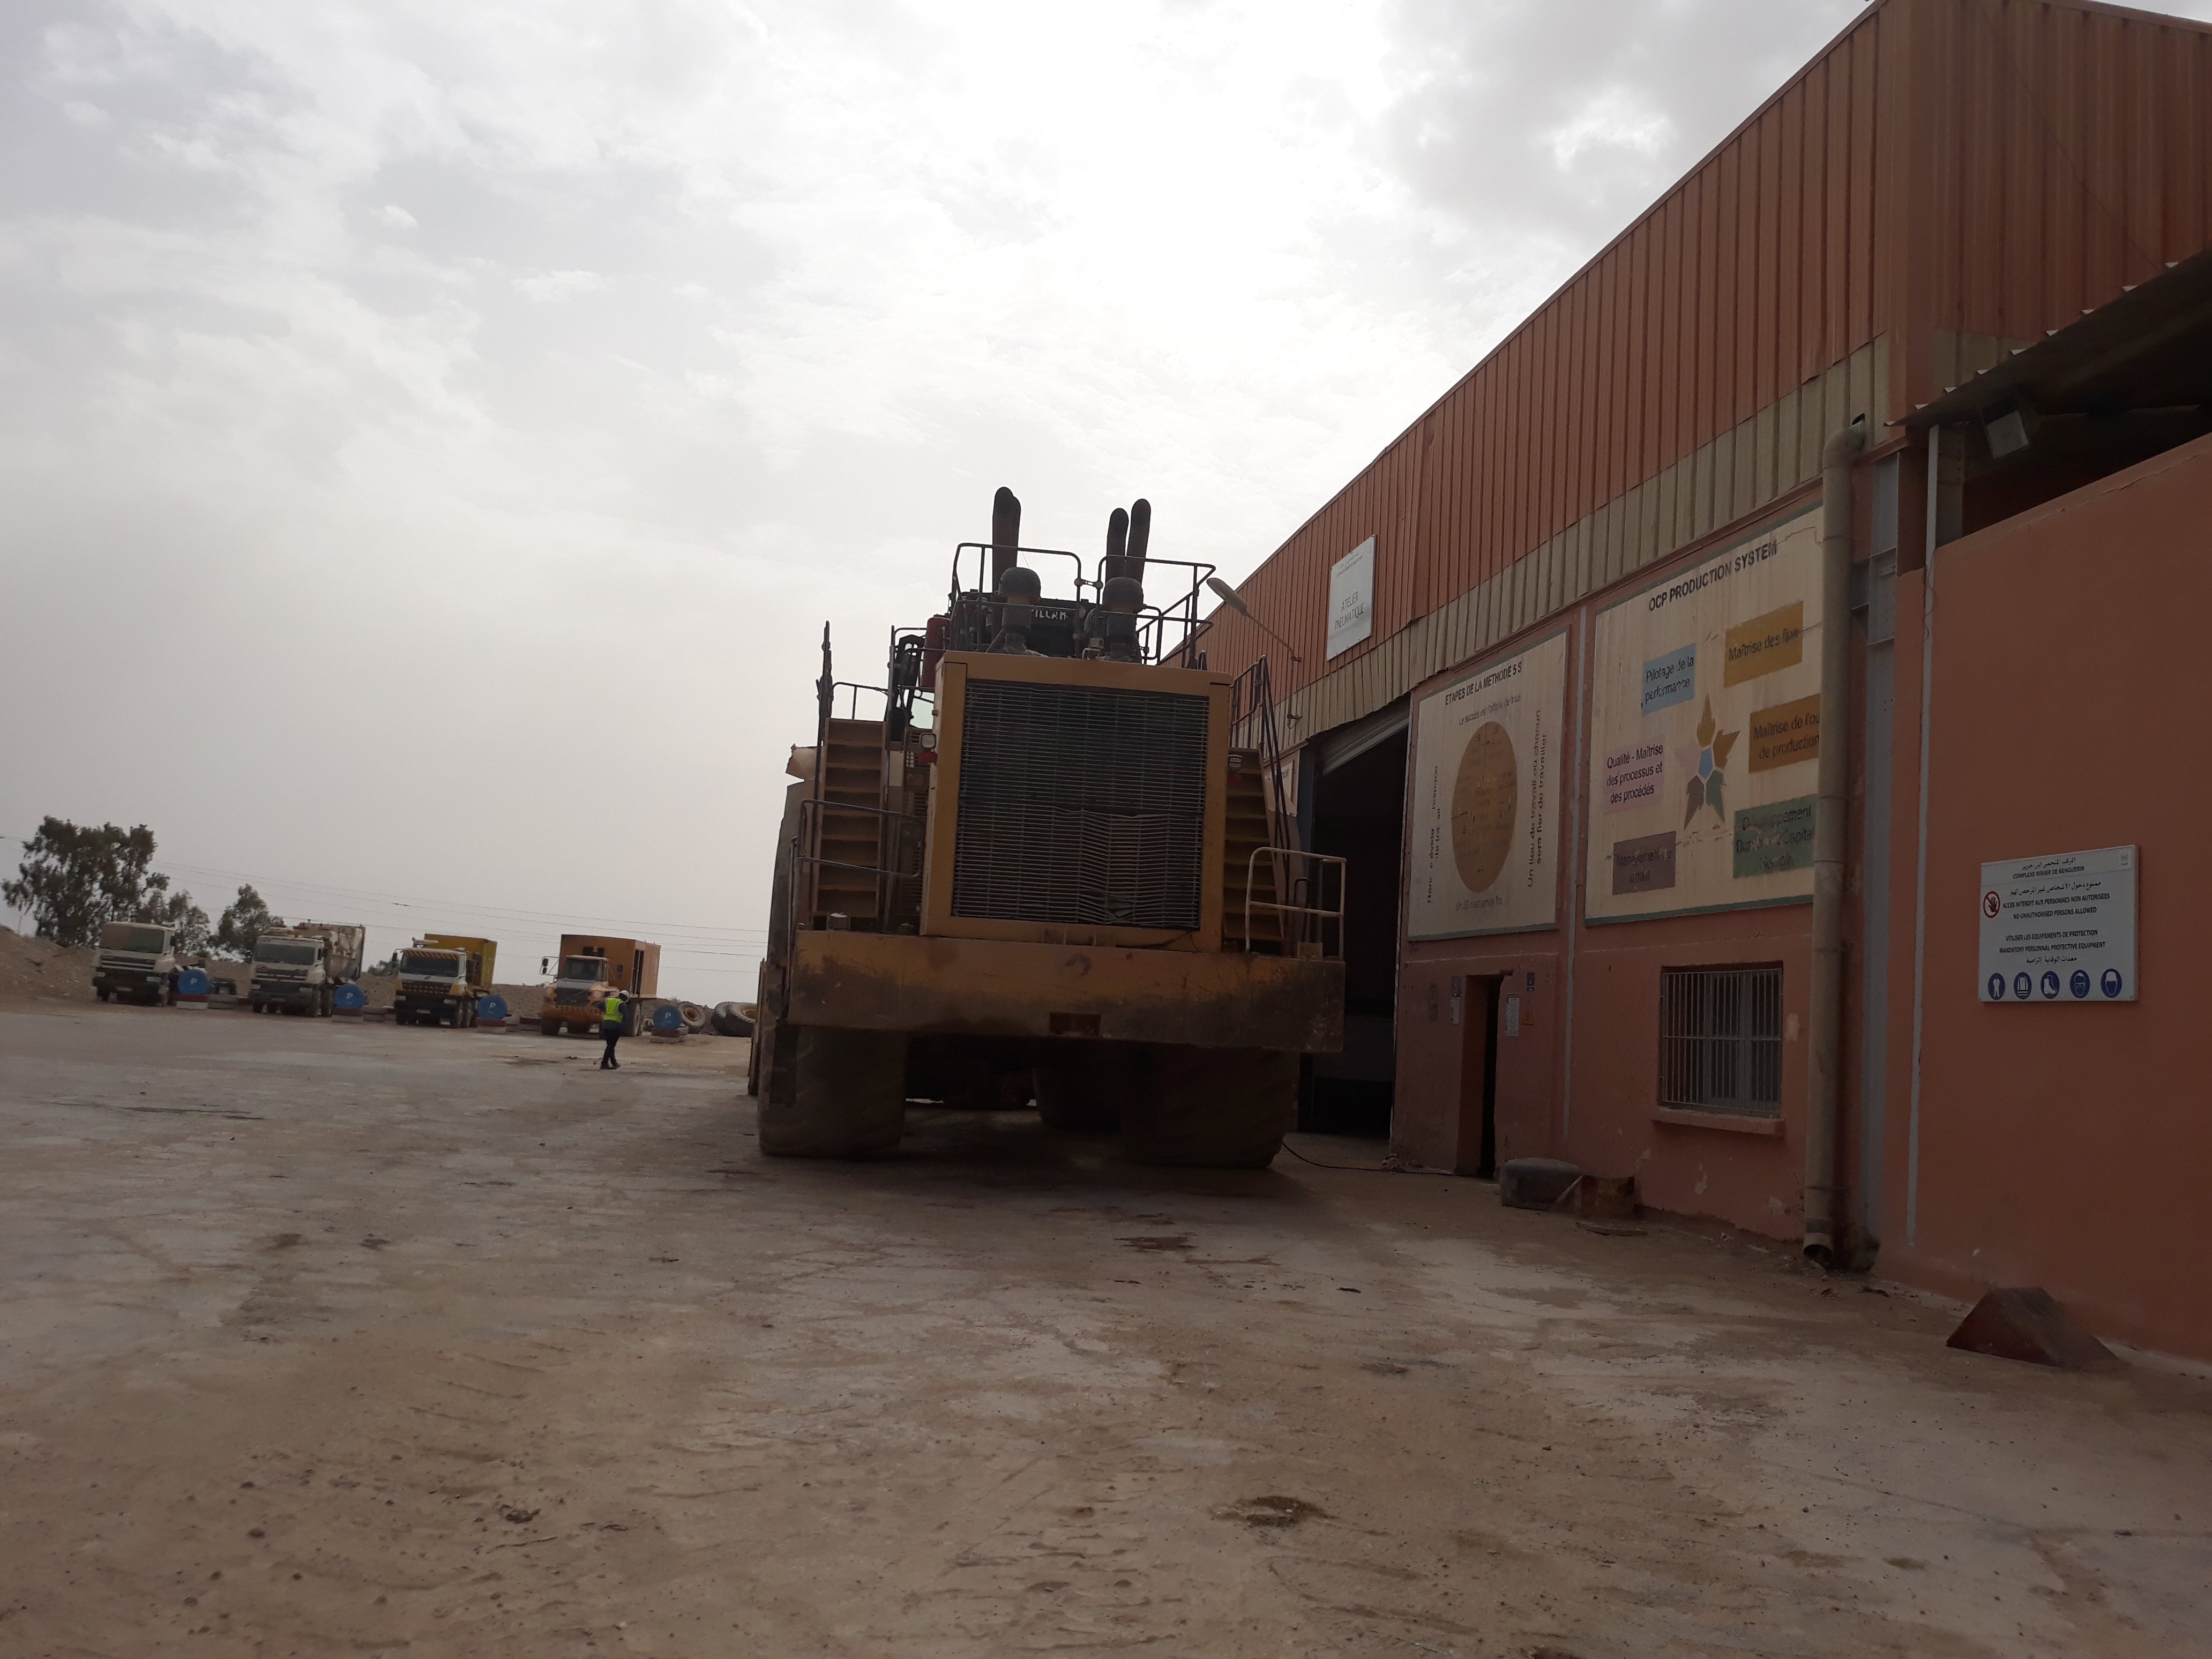chargeuse: (736, 448, 1379, 1224)
person: (580, 970, 645, 1086)
